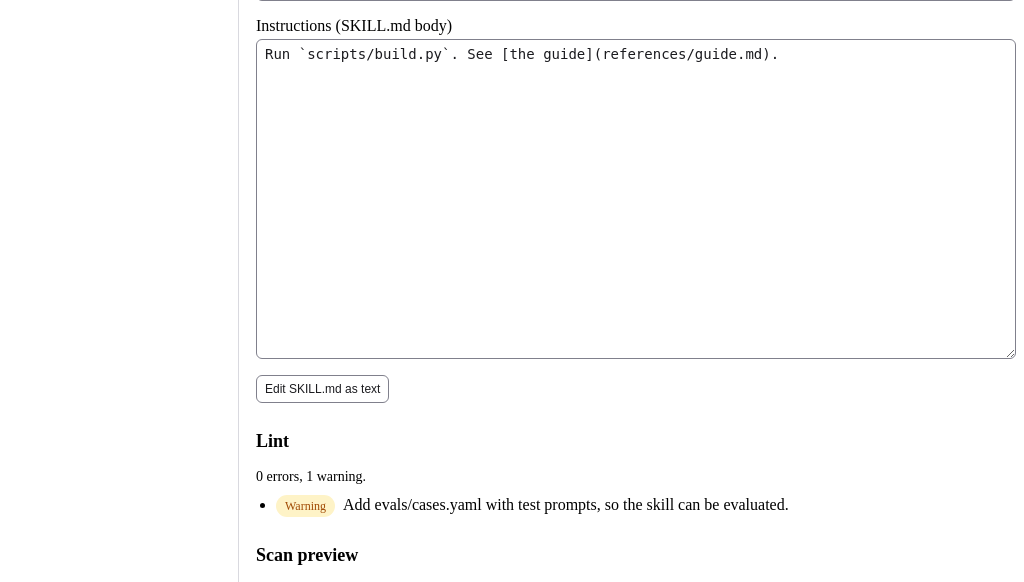
Test: Workbench editor: review fixes (B2, S1, S2, S4) › asks a busy scan again after 1 s, and shows an unfinished one as unavailable, not Block
This screenshot has width=1024, height=582.
(page scrolled)
Replace the text in the text box labelled "Instructions (SKILL.md body)" with "Edit." at (636, 198), box x1=256 y1=38 x2=1016 y2=358
Wait 7300 ms
(page scrolled)
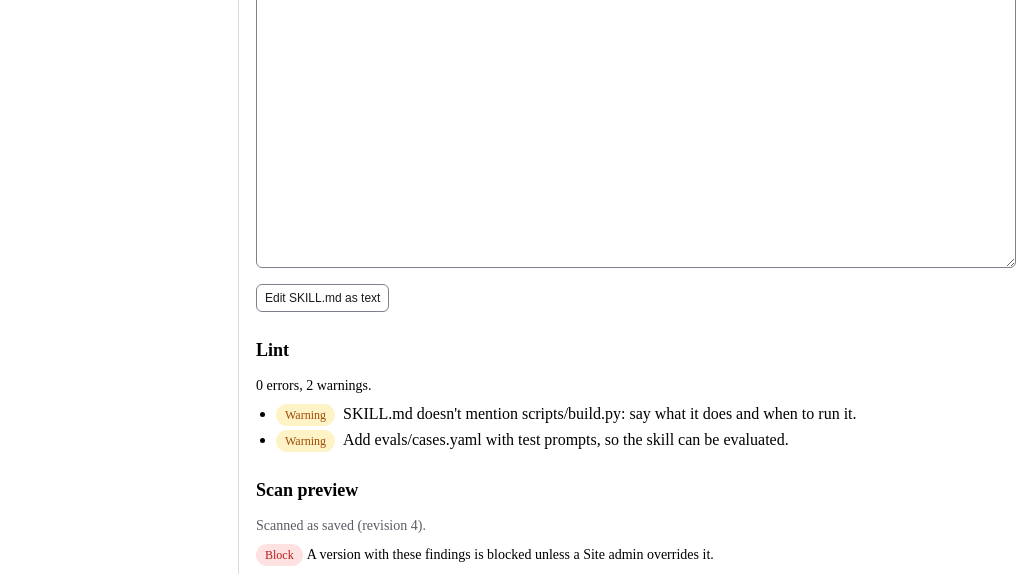
Expected: the text "Pass" is shown, x1=256 y1=544 x2=303 y2=566
Now the text "Scanned as saved (revision 4)." is shown, box x1=256 y1=518 x2=426 y2=532
